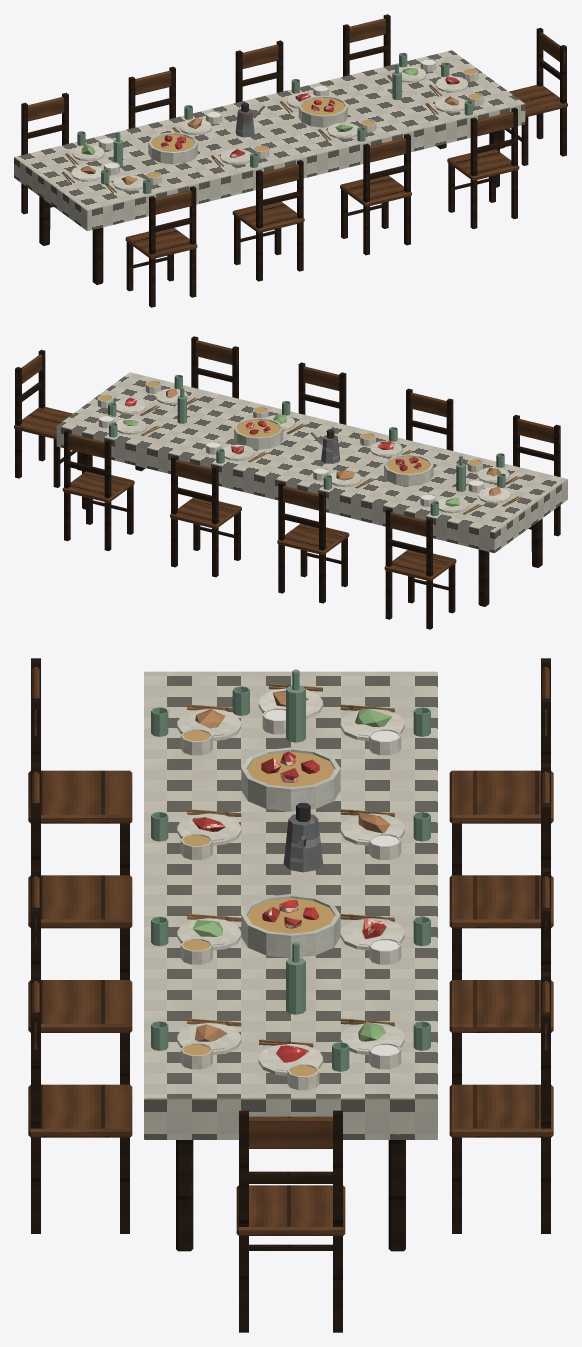
Rendered from dinner_table_10.glb.
3 views of the same model, one above another, from view 1: azimuth 30°, elevation 25°; view 2: azimuth 150°, elevation 25°; view 3: azimuth 270°, elevation 25° (orthographic). The views are drawn at different scales.
Parts seen in each view (by area): view 1: dinner_table_10; view 2: dinner_table_10; view 3: dinner_table_10.
Boxes of the visible parts, x1,y1,x2,y2 form: dinner_table_10: (14,14,567,307); dinner_table_10: (14,336,567,629); dinner_table_10: (28,658,553,1332).
Size of what is drawn, in the model's own units: 4.7 by 1.06 by 2.12.
Materials: 14 (8 with a texture image).
